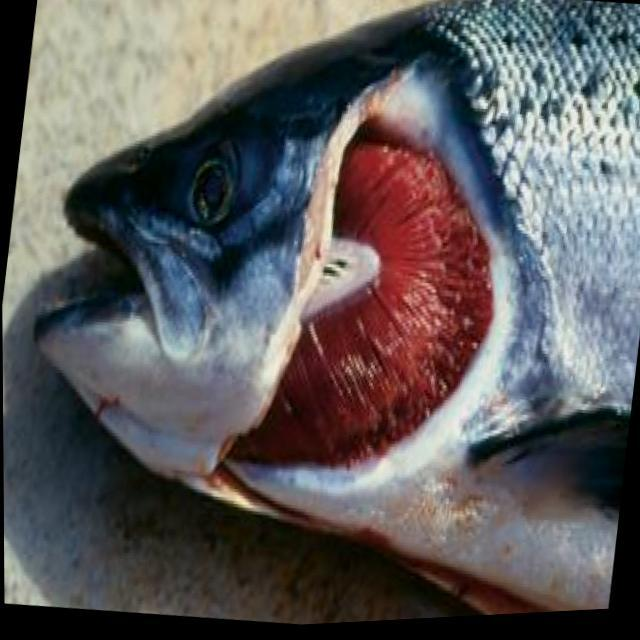Gill Disease: (90, 56, 618, 589)
